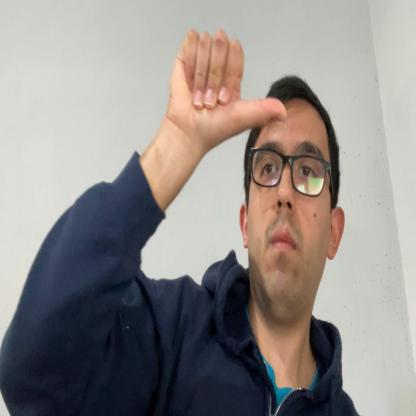A: (169, 26, 287, 149)
